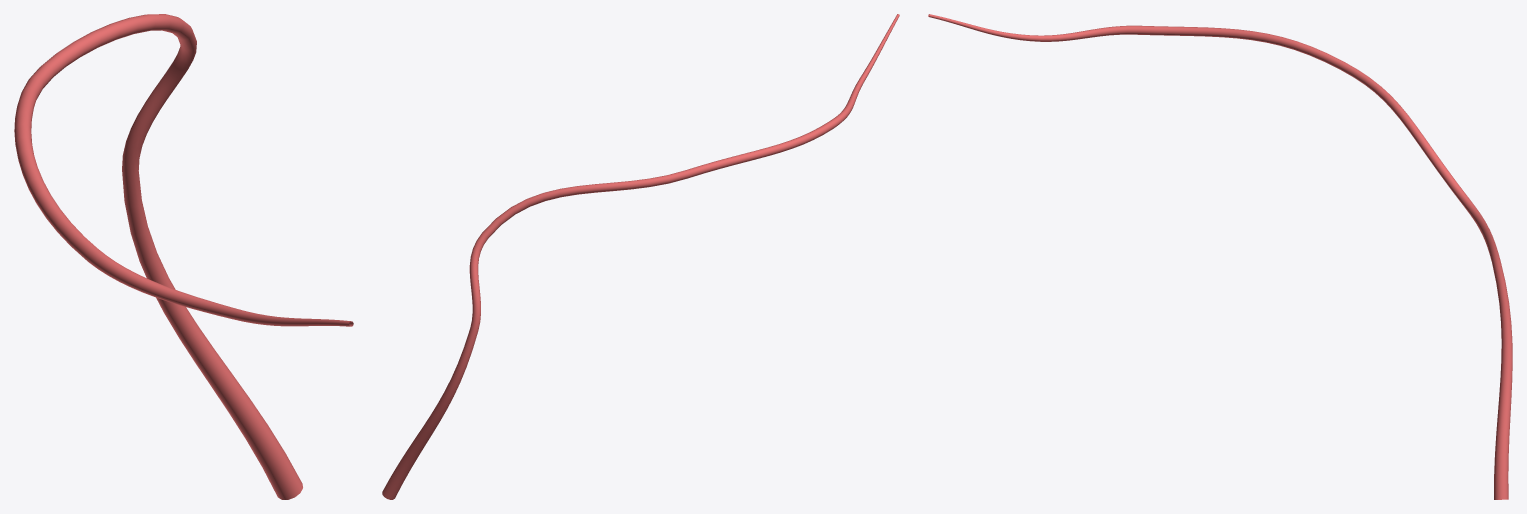
Rendered from Ascending_pharyngeal_artery.l_BezierCurve.105.glb.
3 renders of one model, left to right at view 1: azimuth 30°, elevation 25°; view 2: azimuth 150°, elevation 25°; view 3: azimuth 270°, elevation 25°, orthographic. The views are drawn at different scales.
Parts seen in each view (by area): view 1: Ascending_pharyngeal_artery.l_BezierCurve.105; view 2: Ascending_pharyngeal_artery.l_BezierCurve.105; view 3: Ascending_pharyngeal_artery.l_BezierCurve.105.
Boxes of the visible parts, x1=… form: Ascending_pharyngeal_artery.l_BezierCurve.105: x1=14, y1=14, x2=353, y2=499; Ascending_pharyngeal_artery.l_BezierCurve.105: x1=382, y1=14, x2=899, y2=499; Ascending_pharyngeal_artery.l_BezierCurve.105: x1=928, y1=14, x2=1512, y2=499.
Bounding box in the file's own units: 0.0226 × 0.0266 × 0.0386.
